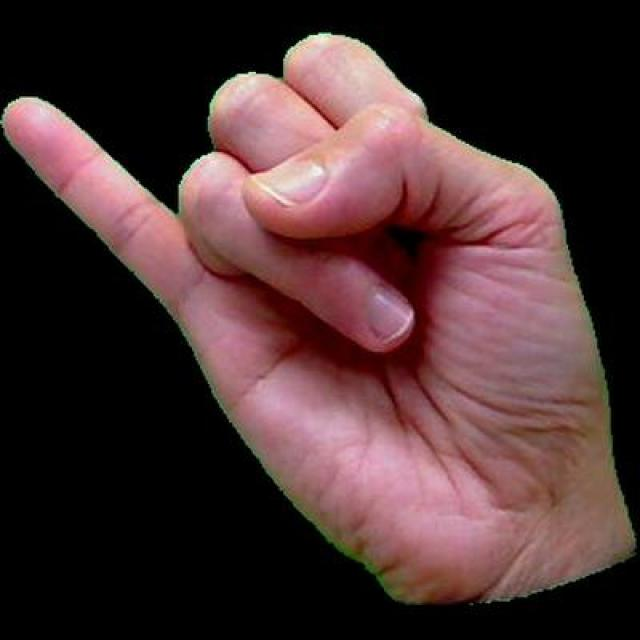j: (0, 22, 637, 613)
